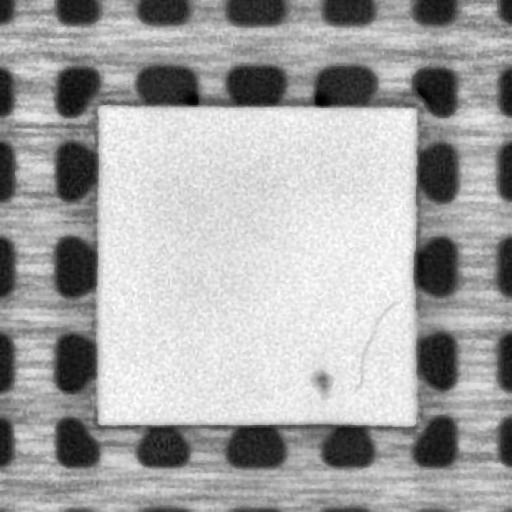DIE_CRACK: (350, 299, 400, 394)
